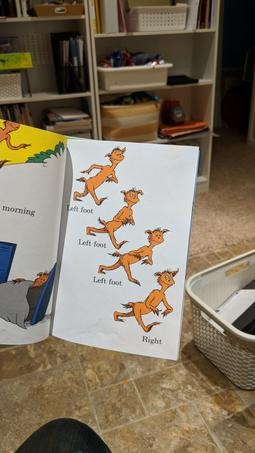text block: (1, 202, 41, 222), (90, 272, 129, 288), (73, 233, 109, 250), (59, 201, 97, 217), (139, 333, 167, 349)
